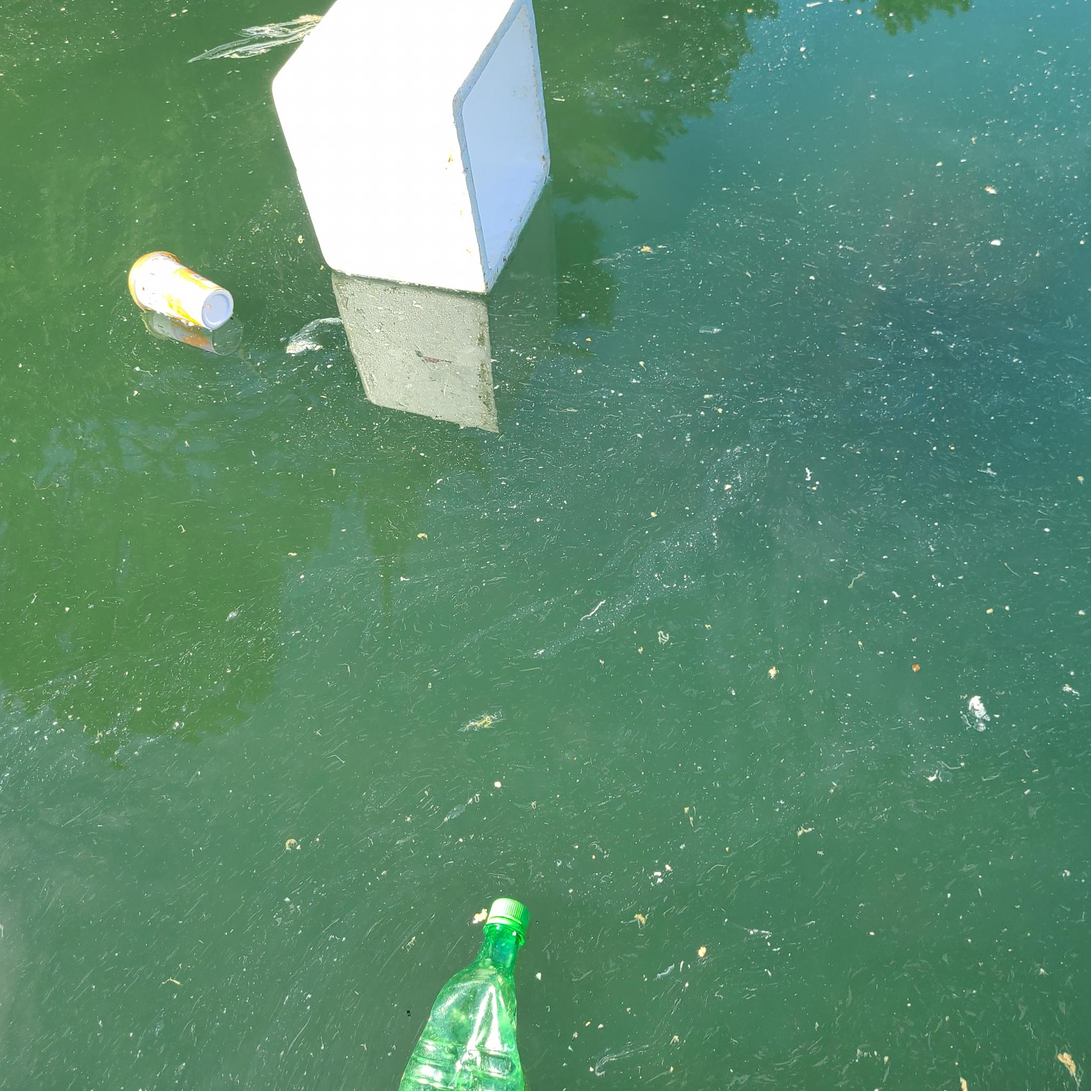sampah_terapung: (272, 1, 551, 294), (398, 898, 531, 1091), (128, 251, 234, 331)
